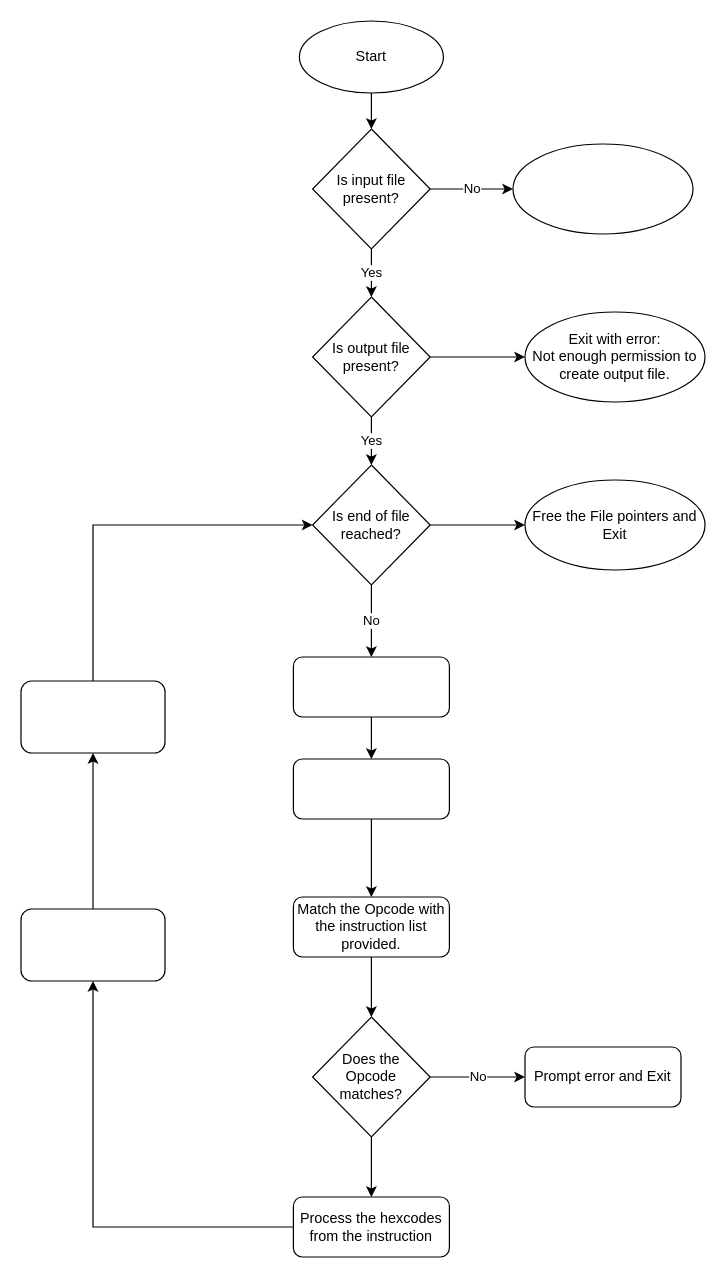
Image size: 726x1278. Some labels were removed from this diagram. The centre of each missing label's shape, as x and y in pixels:
Exit with error: No input file: the point at 602,188
Free allocated memories: the point at 92,716
Parse the instruction line into Opcode and Operands: the point at 370,788
Read a line from input file: the point at 370,686
Write the Opcode to the output file: the point at 92,944
